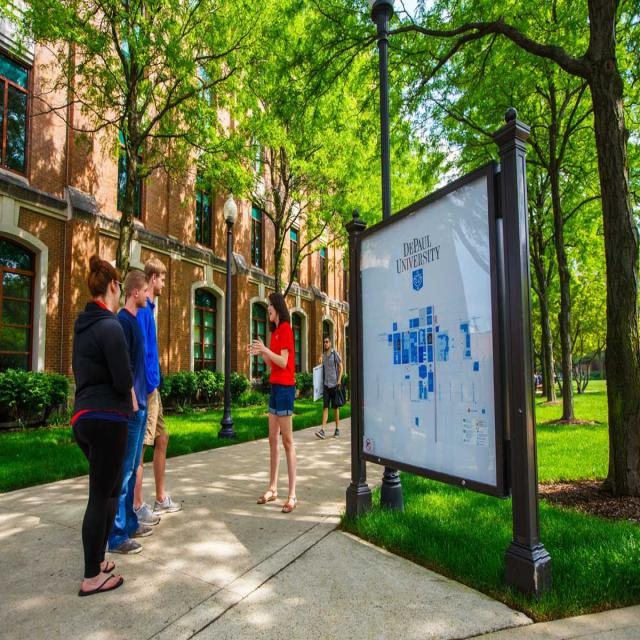body: (69, 251, 135, 601), (128, 253, 187, 527), (106, 268, 154, 555), (245, 290, 299, 514), (311, 334, 348, 440)
